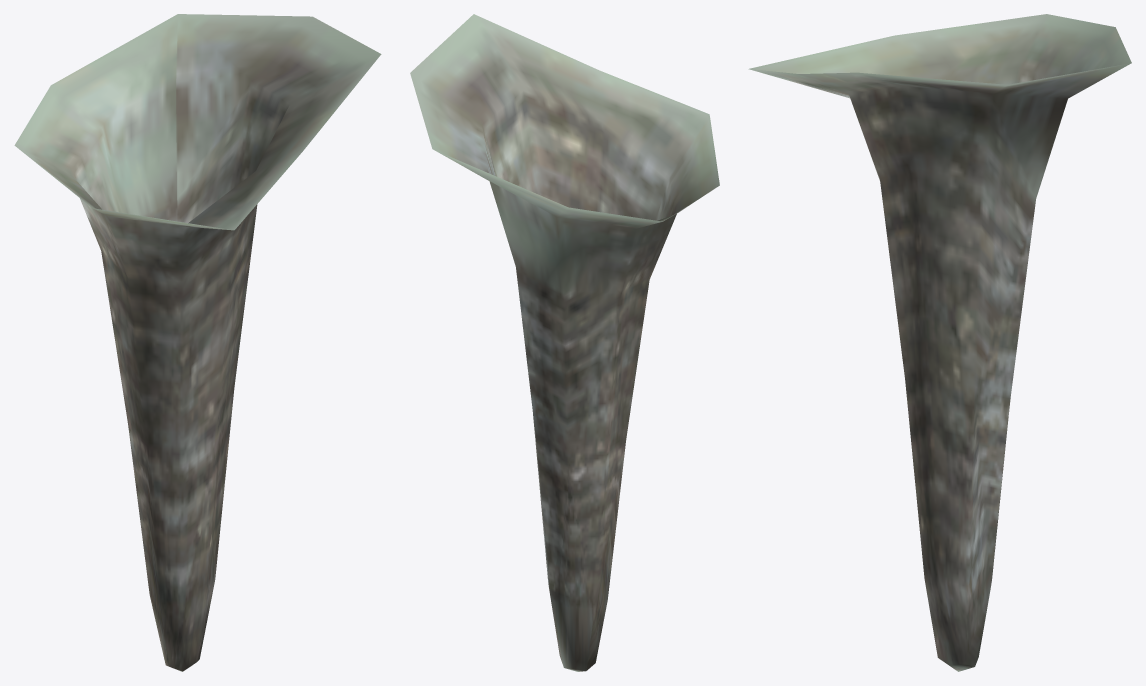
The model's file is TROLLHOLE02_PS-MAINSTALAG36.fbx.
The picture shows the model from 3 angles, left to right: view 1: azimuth 30°, elevation 25°; view 2: azimuth 150°, elevation 25°; view 3: azimuth 270°, elevation 25°; orthographic projection. The views are drawn at different scales.
Visible parts, largest first — view 1: TROLLHOLE02_PS-MAINSTALAG36; view 2: TROLLHOLE02_PS-MAINSTALAG36; view 3: TROLLHOLE02_PS-MAINSTALAG36.
Boxes of the visible parts, x1,y1,x2,y2 form: TROLLHOLE02_PS-MAINSTALAG36: (14,14,381,671); TROLLHOLE02_PS-MAINSTALAG36: (410,14,719,671); TROLLHOLE02_PS-MAINSTALAG36: (748,14,1131,671).
Size of the model in its own units: 18677 by 38838 by 19797.
1 material, 1 textured.
